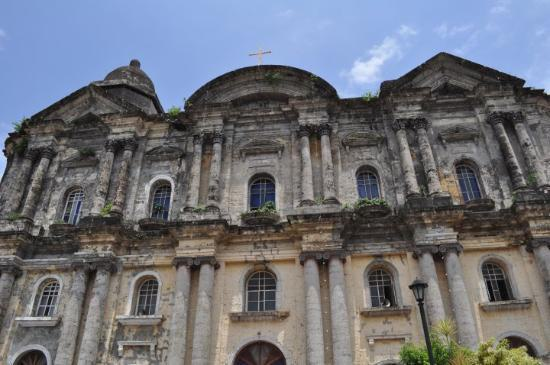taal_basilica_church_taal_batangas: (4, 43, 550, 365)
